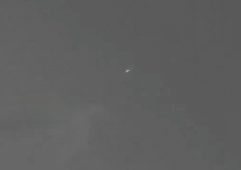Target: (125, 71, 128, 73)
